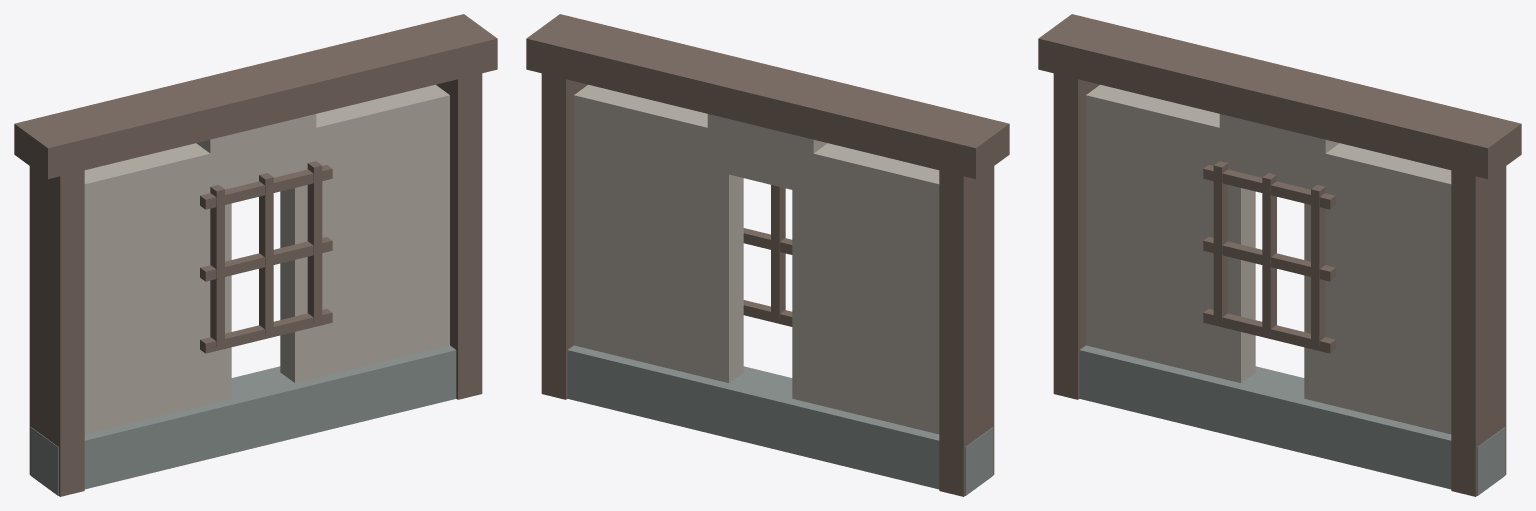
The model's file is painel_janela_lattice.glb.
The picture shows the model from 3 angles, left to right: view 1: azimuth 30°, elevation 25°; view 2: azimuth 150°, elevation 25°; view 3: azimuth 330°, elevation 25°; orthographic projection.
Parts seen in each view (by area): view 1: painel_janela_lattice_part_002, painel_janela_lattice_part_001, painel_janela_lattice_part_012, painel_janela_lattice_part_000, painel_janela_lattice_part_010, painel_janela_lattice_part_011, painel_janela_lattice_part_003, painel_janela_lattice_part_009, painel_janela_lattice_part_008, painel_janela_lattice_part_007, painel_janela_lattice_part_004, painel_janela_lattice_part_006 (+1 smaller); view 2: painel_janela_lattice_part_002, painel_janela_lattice_part_001, painel_janela_lattice_part_012, painel_janela_lattice_part_000, painel_janela_lattice_part_010, painel_janela_lattice_part_011, painel_janela_lattice_part_003, painel_janela_lattice_part_008, painel_janela_lattice_part_004, painel_janela_lattice_part_005; view 3: painel_janela_lattice_part_001, painel_janela_lattice_part_002, painel_janela_lattice_part_012, painel_janela_lattice_part_000, painel_janela_lattice_part_011, painel_janela_lattice_part_010, painel_janela_lattice_part_003, painel_janela_lattice_part_007, painel_janela_lattice_part_008, painel_janela_lattice_part_009, painel_janela_lattice_part_004, painel_janela_lattice_part_006 (+1 smaller).
Boxes of the visible parts, left/top/right/bottom form: painel_janela_lattice_part_002: left=280, top=84, right=449, bottom=382; painel_janela_lattice_part_001: left=84, top=143, right=231, bottom=434; painel_janela_lattice_part_012: left=14, top=14, right=497, bottom=179; painel_janela_lattice_part_000: left=30, top=345, right=456, bottom=495; painel_janela_lattice_part_010: left=29, top=166, right=84, bottom=496; painel_janela_lattice_part_011: left=436, top=73, right=482, bottom=399; painel_janela_lattice_part_003: left=196, top=114, right=316, bottom=187; painel_janela_lattice_part_009: left=307, top=161, right=322, bottom=322; painel_janela_lattice_part_008: left=259, top=173, right=273, bottom=334; painel_janela_lattice_part_007: left=210, top=185, right=224, bottom=346; painel_janela_lattice_part_004: left=200, top=309, right=332, bottom=353; painel_janela_lattice_part_006: left=200, top=165, right=332, bottom=209; painel_janela_lattice_part_002: left=574, top=84, right=743, bottom=382; painel_janela_lattice_part_001: left=792, top=143, right=939, bottom=434; painel_janela_lattice_part_012: left=526, top=14, right=1009, bottom=179; painel_janela_lattice_part_000: left=567, top=345, right=993, bottom=495; painel_janela_lattice_part_010: left=939, top=166, right=994, bottom=496; painel_janela_lattice_part_011: left=541, top=73, right=587, bottom=399; painel_janela_lattice_part_003: left=707, top=114, right=827, bottom=194; painel_janela_lattice_part_008: left=771, top=185, right=785, bottom=319; painel_janela_lattice_part_004: left=743, top=300, right=792, bottom=326; painel_janela_lattice_part_005: left=743, top=228, right=792, bottom=254; painel_janela_lattice_part_001: left=1086, top=84, right=1255, bottom=382; painel_janela_lattice_part_002: left=1304, top=143, right=1451, bottom=434; painel_janela_lattice_part_012: left=1038, top=14, right=1521, bottom=179; painel_janela_lattice_part_000: left=1079, top=345, right=1505, bottom=495; painel_janela_lattice_part_011: left=1451, top=166, right=1506, bottom=496; painel_janela_lattice_part_010: left=1053, top=73, right=1099, bottom=399; painel_janela_lattice_part_003: left=1219, top=114, right=1339, bottom=189; painel_janela_lattice_part_007: left=1213, top=161, right=1228, bottom=322; painel_janela_lattice_part_008: left=1262, top=173, right=1276, bottom=334; painel_janela_lattice_part_009: left=1311, top=185, right=1325, bottom=346; painel_janela_lattice_part_004: left=1203, top=309, right=1335, bottom=353; painel_janela_lattice_part_006: left=1203, top=165, right=1335, bottom=209.
Size of the model in its own units: 4.25 by 3.19 by 0.55.
